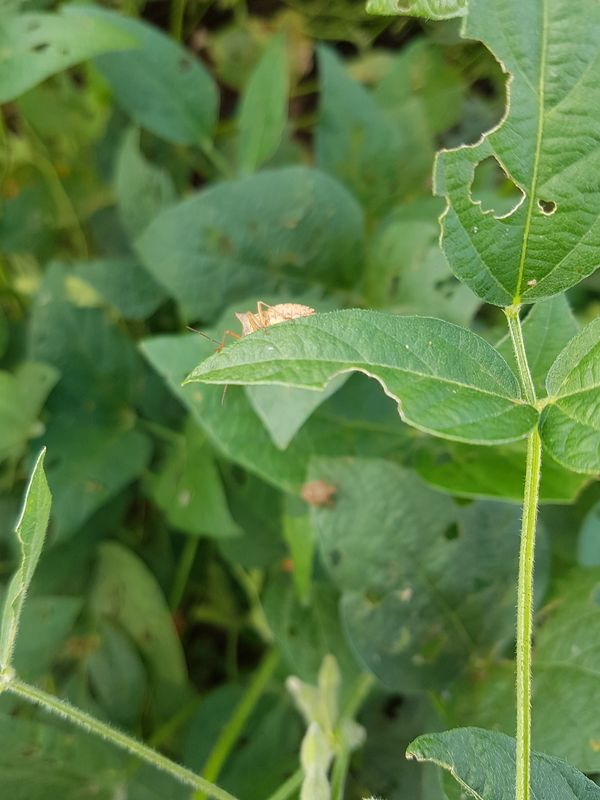Euschistus_heros_adulto: (186, 294, 324, 407)
